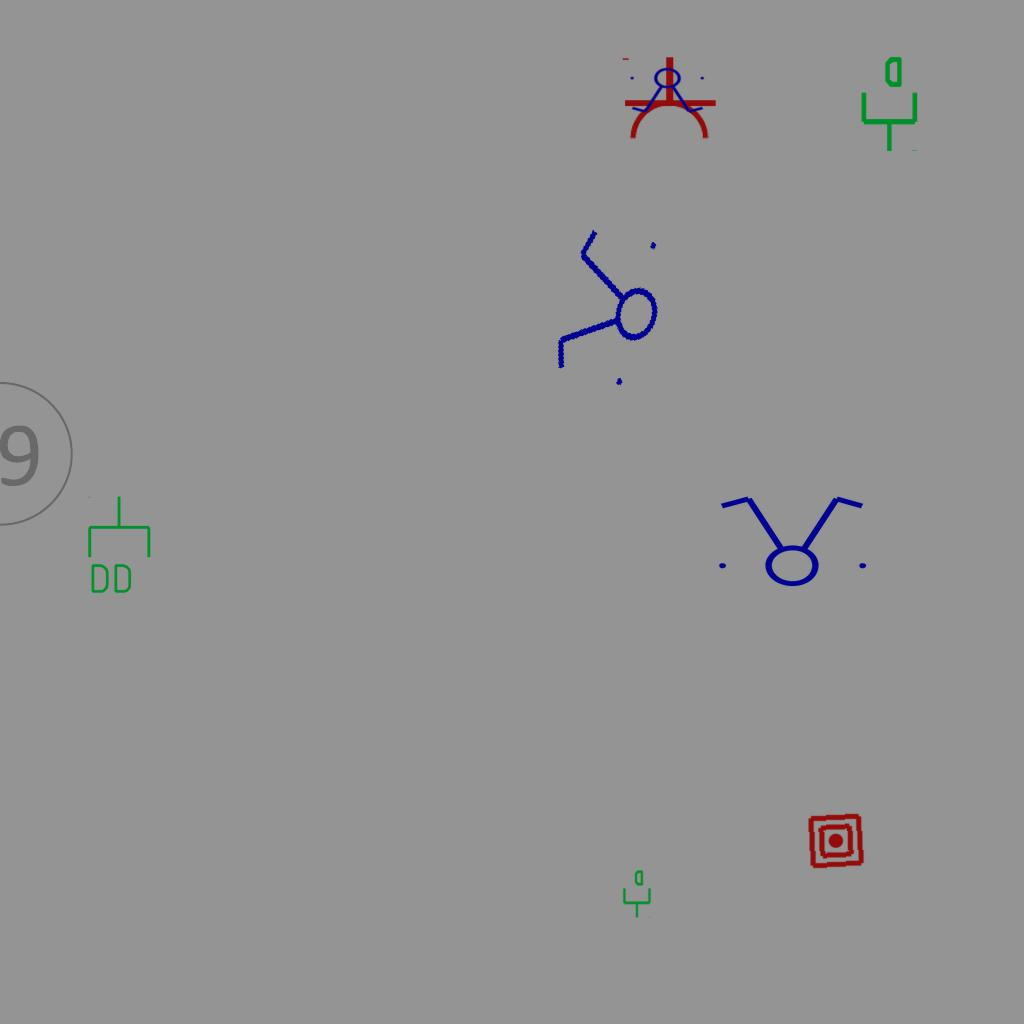Datenanschluss_einfach: (853, 54, 922, 154), (619, 869, 653, 919)
Datenanschluss_zweifach: (84, 494, 153, 597)
NAM-Nichtautomatischer_Melder: (806, 811, 866, 871)
Schukosteckdose_einfach: (618, 55, 718, 142)
Serienschalter: (544, 215, 678, 403), (707, 492, 875, 588), (626, 67, 710, 115)
